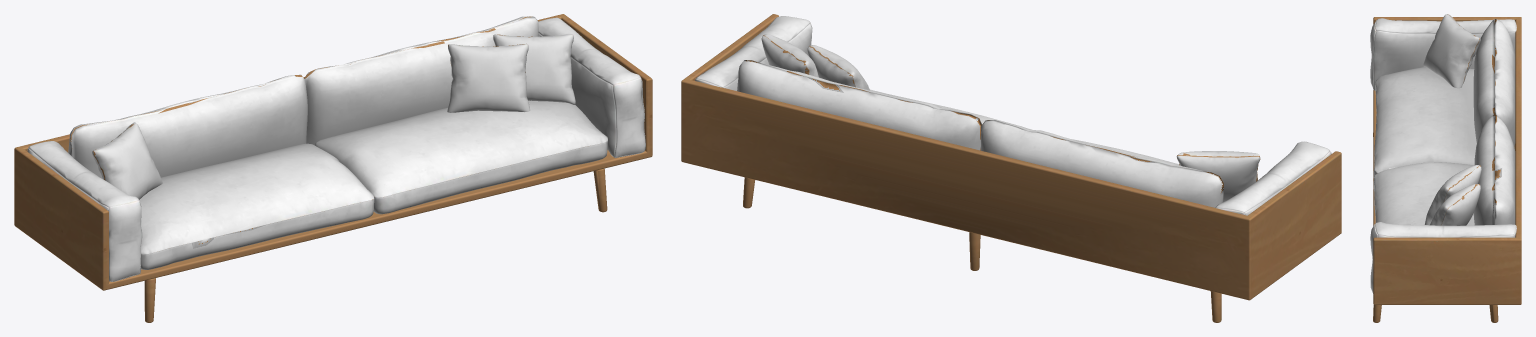
3 views of the same model, side by side, from view 1: azimuth 30°, elevation 25°; view 2: azimuth 150°, elevation 25°; view 3: azimuth 270°, elevation 25° (orthographic). The views are drawn at different scales.
Parts seen in each view (by area): view 1: Leather Sofa.001; view 2: Leather Sofa.001; view 3: Leather Sofa.001.
Part boxes in pixels (left/top/right/bottom): Leather Sofa.001: left=14, top=14, right=652, bottom=322; Leather Sofa.001: left=681, top=14, right=1341, bottom=322; Leather Sofa.001: left=1370, top=14, right=1521, bottom=322.
Bounding box in the file's own units: 3.5 × 0.8759 × 1.
1 material, 1 textured.
